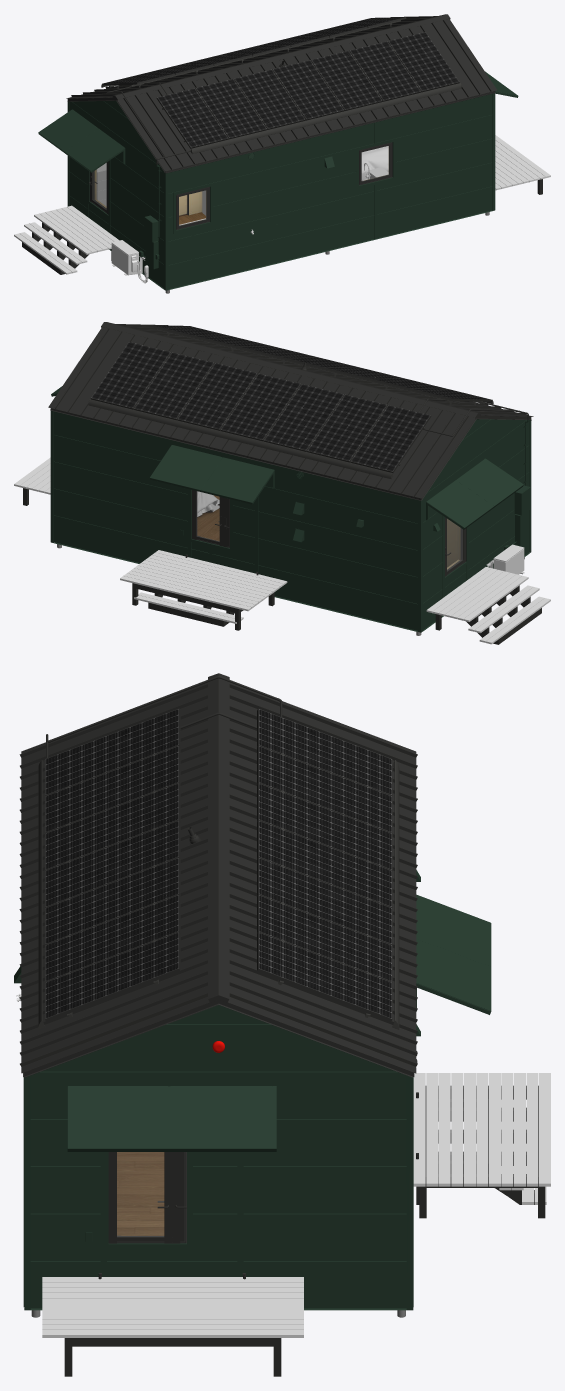
The model's file is studio.glb.
3 renders of one model, top to bottom at view 1: azimuth 30°, elevation 25°; view 2: azimuth 150°, elevation 25°; view 3: azimuth 270°, elevation 25°, orthographic. The views are drawn at different scales.
Parts seen in each view (by area): view 1: Wall_e_BackWindow_S, SP_Right_S, Roof_S, Wall_e_RightWindow1_S, Desk_S, Wall_e_LeftWindow_S, Awning_Rigth_S, SP_Left_S, Frame_Around_S, Shield_Right_S, Frame_BackWindow_S, Deck_Left_S (+13 smaller); view 2: Wall_e_FrontWindow_S, SP_Left_S, Roof_S, Wall_e_RightWindow1_S, Deck_Front_S, Desk_S, Awning_Front_S, Wall_e_LeftWindow_S, Awning_Rigth_S, SP_Right_S, Shield_Left_S, Frame_Around_S (+20 smaller); view 3: Wall_e_LeftDoor_S, Roof_S, SP_Right_S, SP_Left_S, Deck_Left_S, Deck_Front_S, Awning_Left_S, Wall_e_LefttDoor_S, Awning_Front_S, Frame_Around_S, Door_GlassLeft_S, Floor_S (+9 smaller).
Boxes of the visible parts, bbox=[...] form: Wall_e_BackWindow_S: bbox=[168, 94, 492, 288]; SP_Right_S: bbox=[156, 31, 459, 148]; Roof_S: bbox=[66, 14, 497, 173]; Wall_e_RightWindow1_S: bbox=[69, 101, 163, 287]; Desk_S: bbox=[14, 205, 119, 274]; Wall_e_LeftWindow_S: bbox=[69, 100, 163, 192]; Awning_Rigth_S: bbox=[38, 109, 125, 172]; SP_Left_S: bbox=[103, 17, 406, 85]; Frame_Around_S: bbox=[67, 93, 495, 290]; Shield_Right_S: bbox=[190, 83, 461, 153]; Frame_BackWindow_S: bbox=[173, 122, 395, 283]; Deck_Left_S: bbox=[495, 135, 550, 190]; Wall_e_FrontWindow_S: bbox=[54, 411, 417, 630]; SP_Left_S: bbox=[90, 341, 431, 472]; Roof_S: bbox=[48, 322, 533, 500]; Wall_e_RightWindow1_S: bbox=[423, 419, 529, 629]; Deck_Front_S: bbox=[120, 550, 287, 611]; Desk_S: bbox=[426, 567, 550, 644]; Awning_Front_S: bbox=[150, 445, 274, 504]; Wall_e_LeftWindow_S: bbox=[423, 419, 529, 522]; Awning_Rigth_S: bbox=[426, 458, 523, 529]; SP_Right_S: bbox=[150, 325, 491, 401]; Shield_Left_S: bbox=[88, 399, 393, 478]; Frame_Around_S: bbox=[50, 410, 531, 632]; Wall_e_LeftDoor_S: bbox=[30, 1005, 406, 1308]; Roof_S: bbox=[19, 673, 417, 1077]; SP_Right_S: bbox=[45, 708, 180, 1021]; SP_Left_S: bbox=[257, 708, 392, 1021]; Deck_Left_S: bbox=[42, 1277, 303, 1337]; Deck_Front_S: bbox=[413, 1073, 550, 1186]; Awning_Left_S: bbox=[67, 1086, 276, 1151]; Wall_e_LefttDoor_S: bbox=[31, 1119, 406, 1276]; Awning_Front_S: bbox=[416, 894, 491, 1014]; Frame_Around_S: bbox=[23, 1075, 413, 1310]; Door_GlassLeft_S: bbox=[117, 1152, 186, 1242]; Floor_S: bbox=[117, 1152, 164, 1235].
Size of the model in its own units: 11.97 by 4.26 by 6.26.
29 materials, 3 textured.
